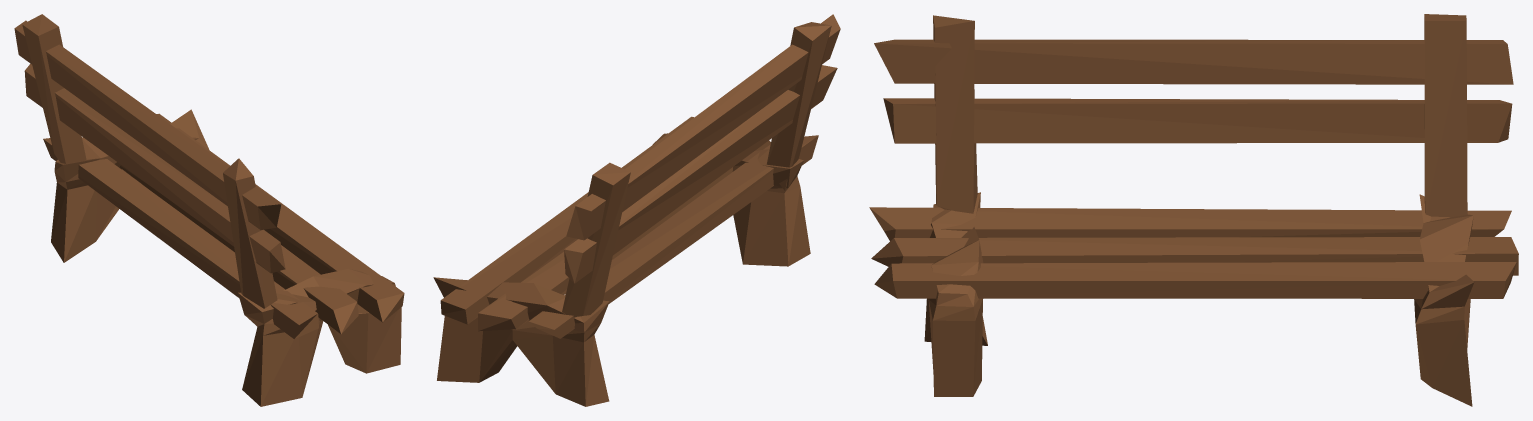
The model's file is Bank_2.fbx.
3 renders of one model, left to right at view 1: azimuth 30°, elevation 25°; view 2: azimuth 150°, elevation 25°; view 3: azimuth 270°, elevation 25°, orthographic. The views are drawn at different scales.
Parts seen in each view (by area): view 1: Gerüst_2_1; view 2: Gerüst_2_1; view 3: Gerüst_2_1.
Part boxes in pixels (<box>): Gerüst_2_1: <box>14,14,404,406</box>; Gerüst_2_1: <box>433,14,840,406</box>; Gerüst_2_1: <box>869,14,1518,406</box>.
Bounding box in the file's own units: 60.92 × 80.25 × 159.
